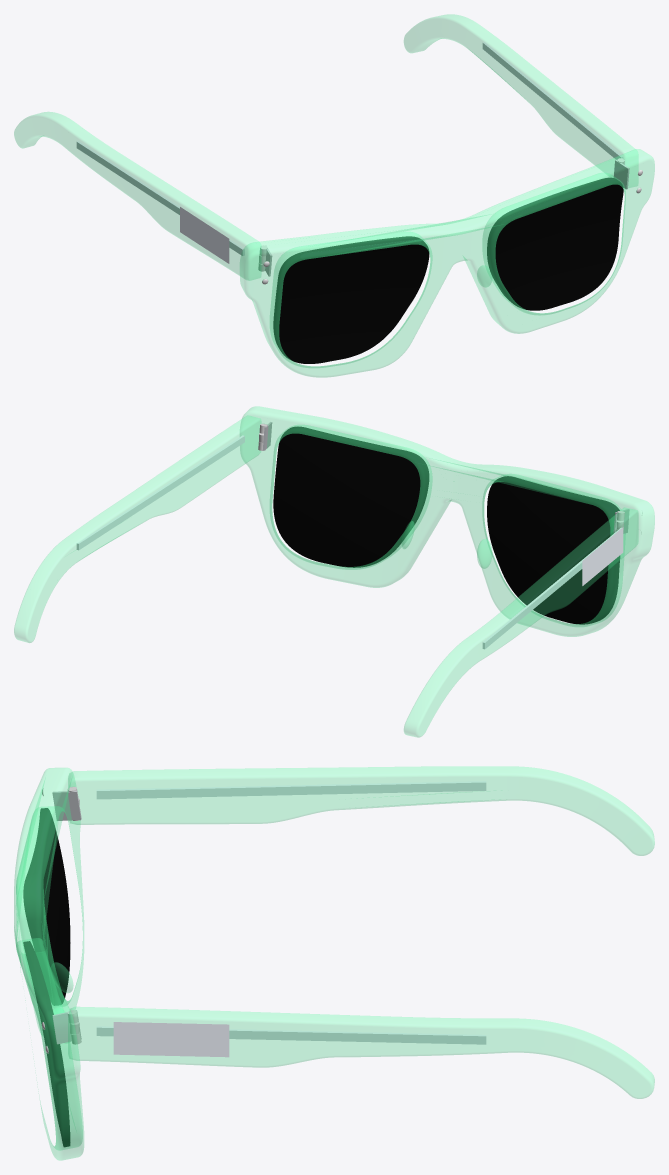
Rendered from emeraldVision.glb.
3 renders of one model, top to bottom at view 1: azimuth 30°, elevation 25°; view 2: azimuth 150°, elevation 25°; view 3: azimuth 270°, elevation 25°, orthographic. The views are drawn at different scales.
Visible parts, largest first — view 1: frameFront, temple (×2), lensL, lensR, coreWire (×2), logo; view 2: frameFront, temple (×2), lensR, lensL, coreWire (×2), logo; view 3: temple (×2), frameFront, coreWire (×2), lensL, logo, lensR, hingeL, hingeR.
Boxes of the visible parts, box(x1,y1,x2,y2) form: frameFront: box(240, 149, 654, 377); temple (×2): box(14, 14, 637, 280); lensL: box(273, 236, 429, 363); lensR: box(487, 177, 623, 310); coreWire (×2): box(76, 42, 623, 255); logo: box(180, 207, 229, 263); frameFront: box(240, 406, 654, 636); temple (×2): box(14, 415, 637, 737); lensR: box(273, 426, 429, 567); lensL: box(487, 476, 619, 624); coreWire (×2): box(76, 435, 621, 649); logo: box(582, 527, 623, 585); temple (×2): box(68, 766, 654, 1098); frameFront: box(14, 768, 83, 1160); coreWire (×2): box(96, 781, 486, 1044); lensL: box(23, 808, 70, 1005); logo: box(113, 1022, 229, 1057); lensR: box(23, 941, 70, 1147); hingeL: box(52, 786, 81, 820); hingeR: box(52, 1010, 81, 1044).
Bounding box in the file's own units: 14.72 × 5.06 × 15.27.
